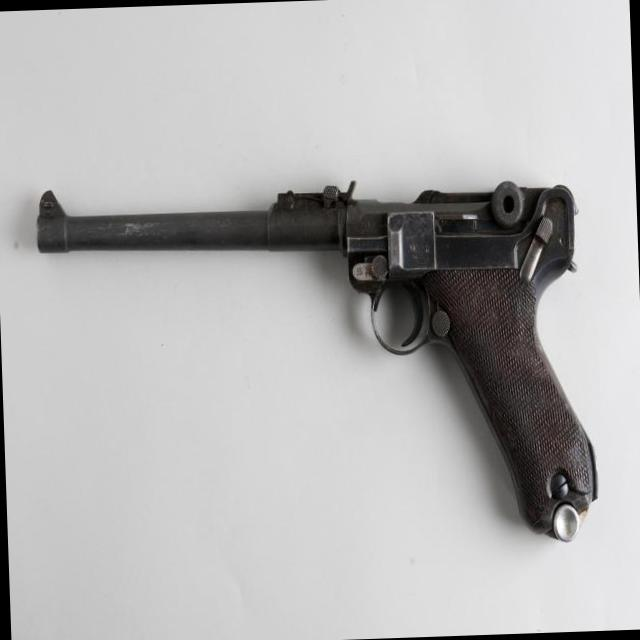Gun: (37, 181, 596, 540)
